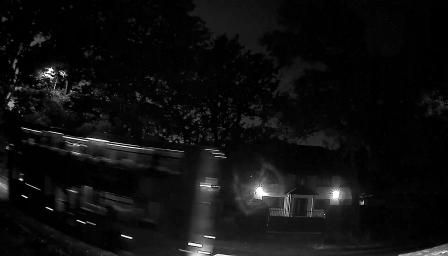Cars: (10, 122, 217, 256)
